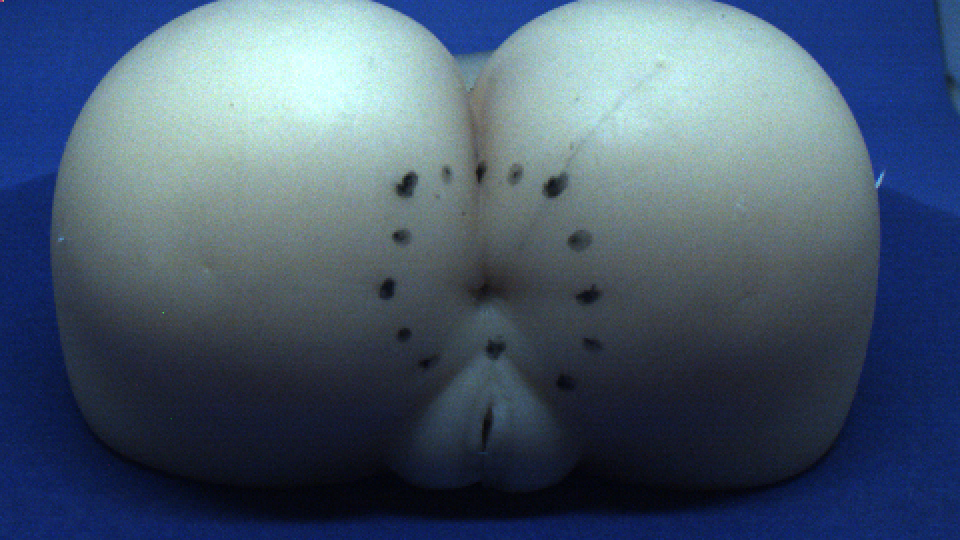asarp_marker: (573, 278, 609, 308), (390, 169, 421, 203), (541, 169, 572, 199), (482, 334, 510, 364), (500, 163, 530, 189), (373, 275, 401, 302), (578, 327, 606, 352), (551, 367, 579, 392), (386, 226, 419, 247), (566, 229, 593, 252), (418, 348, 441, 374), (470, 158, 491, 183), (393, 321, 415, 343), (437, 162, 453, 183)
